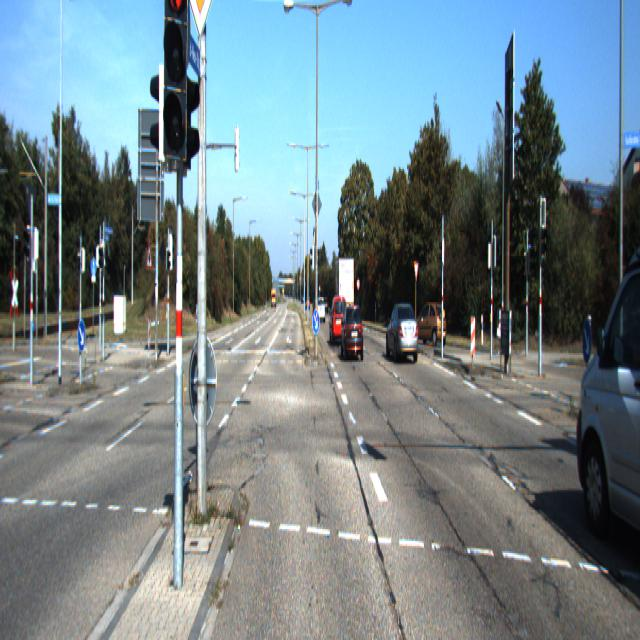Car: (572, 224, 639, 580), (386, 302, 420, 364), (413, 300, 447, 346), (334, 254, 354, 324), (341, 304, 364, 362), (329, 294, 348, 348)
